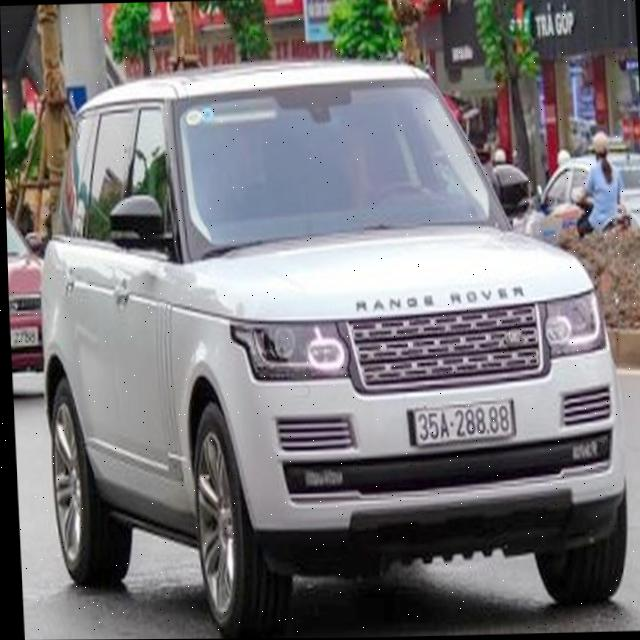car: (8, 41, 638, 625), (5, 174, 57, 386)
plate: (404, 396, 521, 450)
